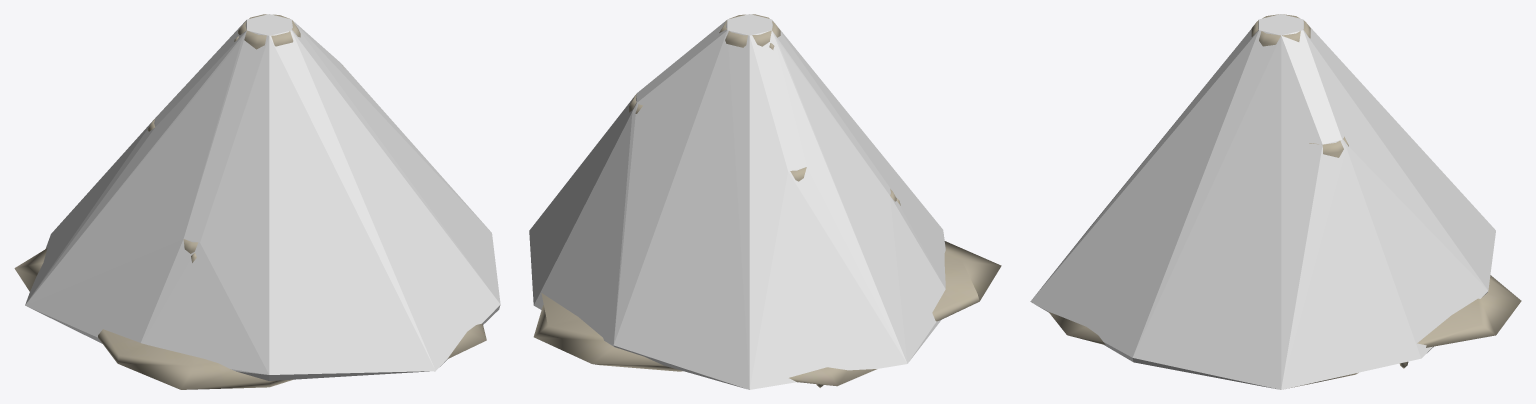
File: candles.webp.glb
3 views of the same model, side by side, from view 1: azimuth 30°, elevation 25°; view 2: azimuth 150°, elevation 25°; view 3: azimuth 270°, elevation 25° (orthographic).
Visible parts, largest first — view 1: COL, LOD0_body; view 2: COL, LOD0_body; view 3: COL, LOD0_body.
Boxes of the visible parts, x1,y1,x2,y2 form: COL: [25, 14, 500, 380]; LOD0_body: [14, 14, 486, 389]; COL: [529, 14, 945, 389]; LOD0_body: [533, 14, 1001, 387]; COL: [1030, 14, 1495, 389]; LOD0_body: [1048, 14, 1521, 388].
Size of the model in its own units: 0.6979 by 0.477 by 0.7107.
Materials: 1 (1 with a texture image).
